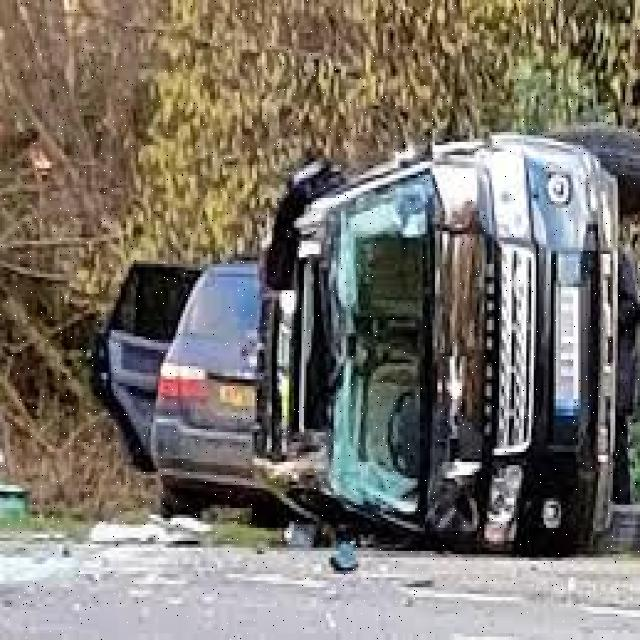severe: (257, 112, 640, 564)
